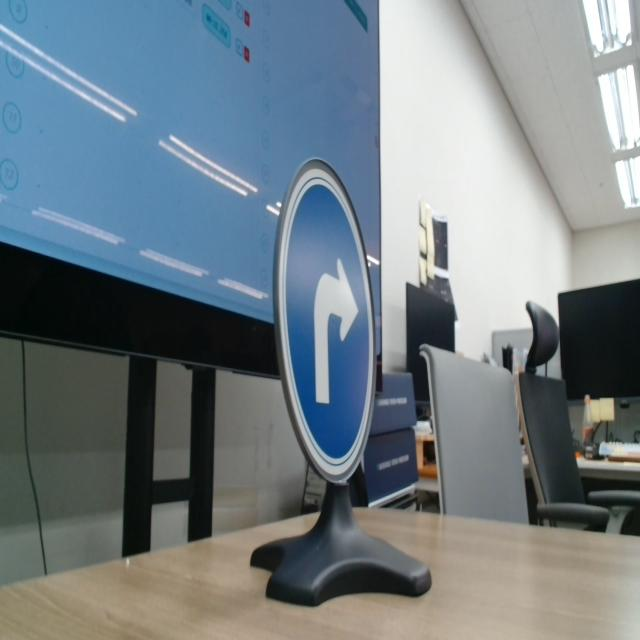right_dierection: (265, 116, 412, 500)
